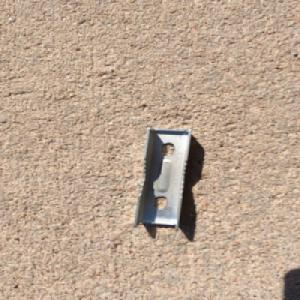ClampPart: (130, 125, 192, 232)
